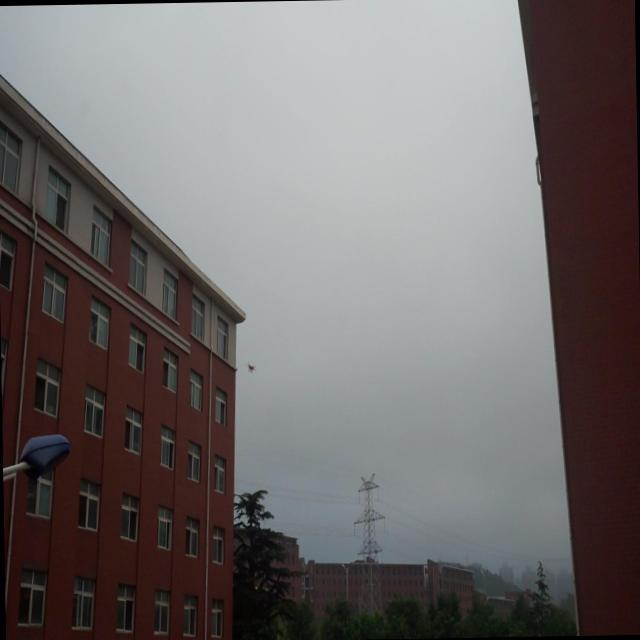drone: (244, 360, 257, 371)
